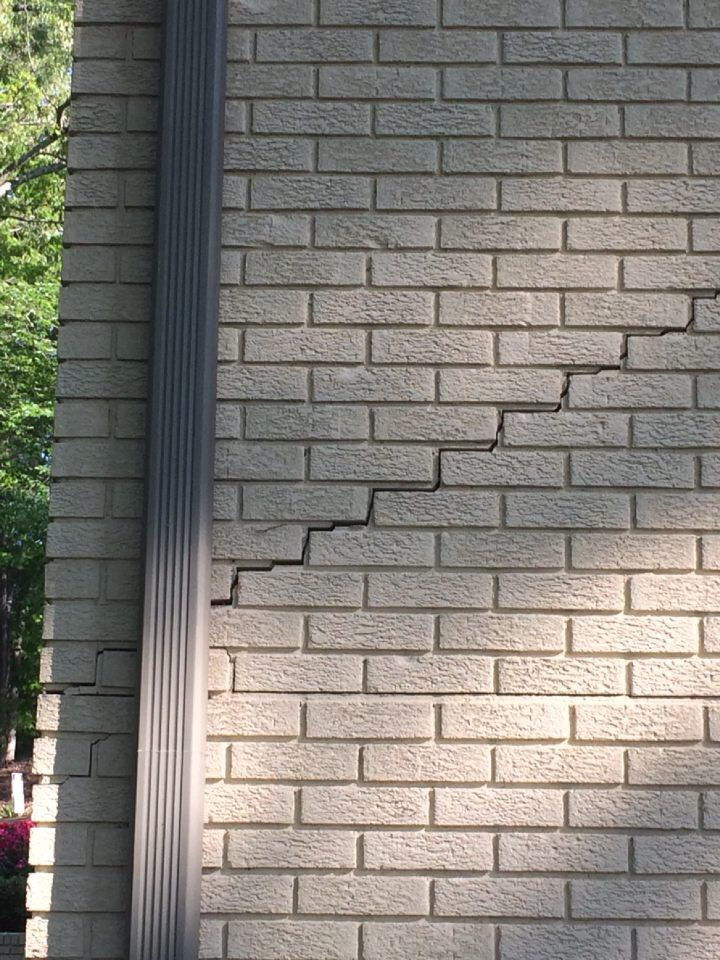stairstep_crack: (209, 292, 719, 611), (41, 644, 140, 698), (33, 731, 110, 787)
